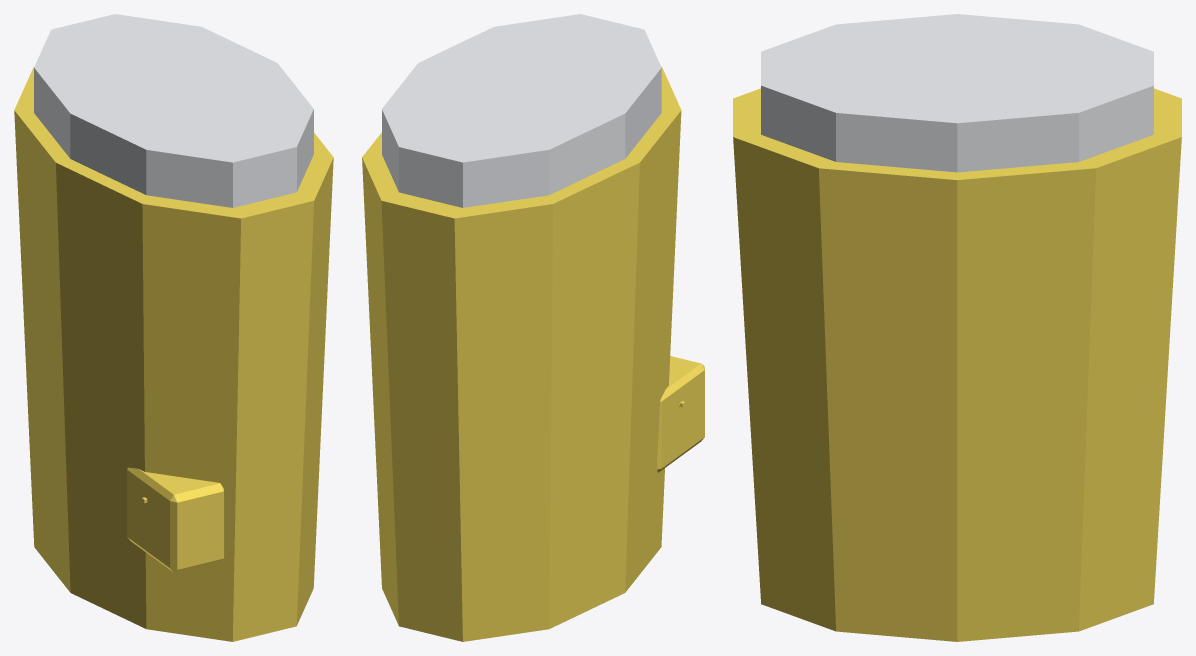
The model's file is b17_folding_baby_stroller.glb.
3 views of the same model, side by side, from view 1: azimuth 30°, elevation 25°; view 2: azimuth 150°, elevation 25°; view 3: azimuth 270°, elevation 25° (orthographic). The views are drawn at different scales.
Parts seen in each view (by area): view 1: b17_folding_baby_stroller; view 2: b17_folding_baby_stroller; view 3: b17_folding_baby_stroller.
Boxes of the visible parts, <box> form: b17_folding_baby_stroller: <box>14,14,333,641</box>; b17_folding_baby_stroller: <box>362,14,704,641</box>; b17_folding_baby_stroller: <box>733,14,1181,641</box>.
Size of the model in its own units: 0.533 by 1.03 by 0.81.
